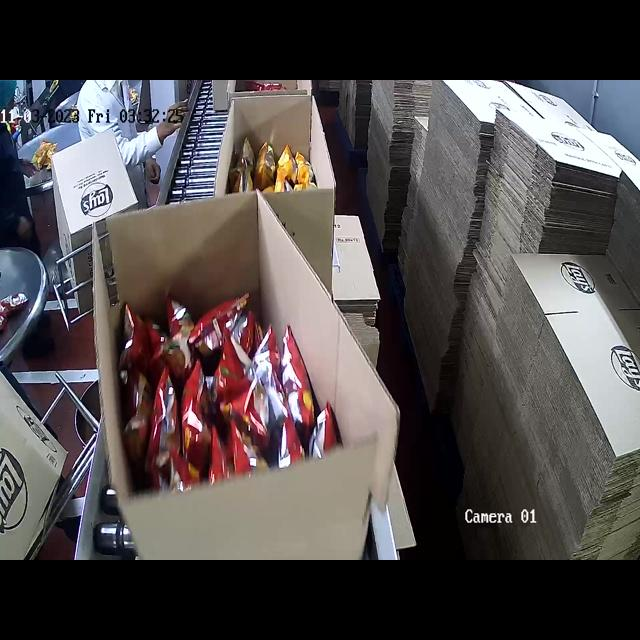cheese: (237, 127, 318, 199)
masala: (92, 294, 324, 445)
